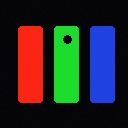0 point: (63, 35, 71, 43)
